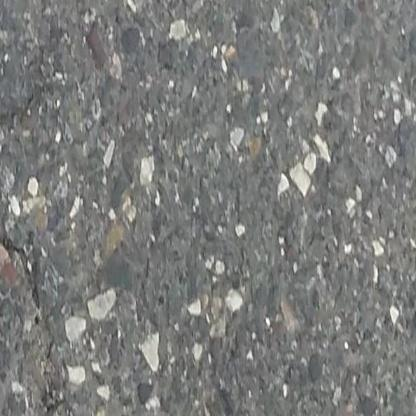Cracks: (0, 100, 43, 267)
